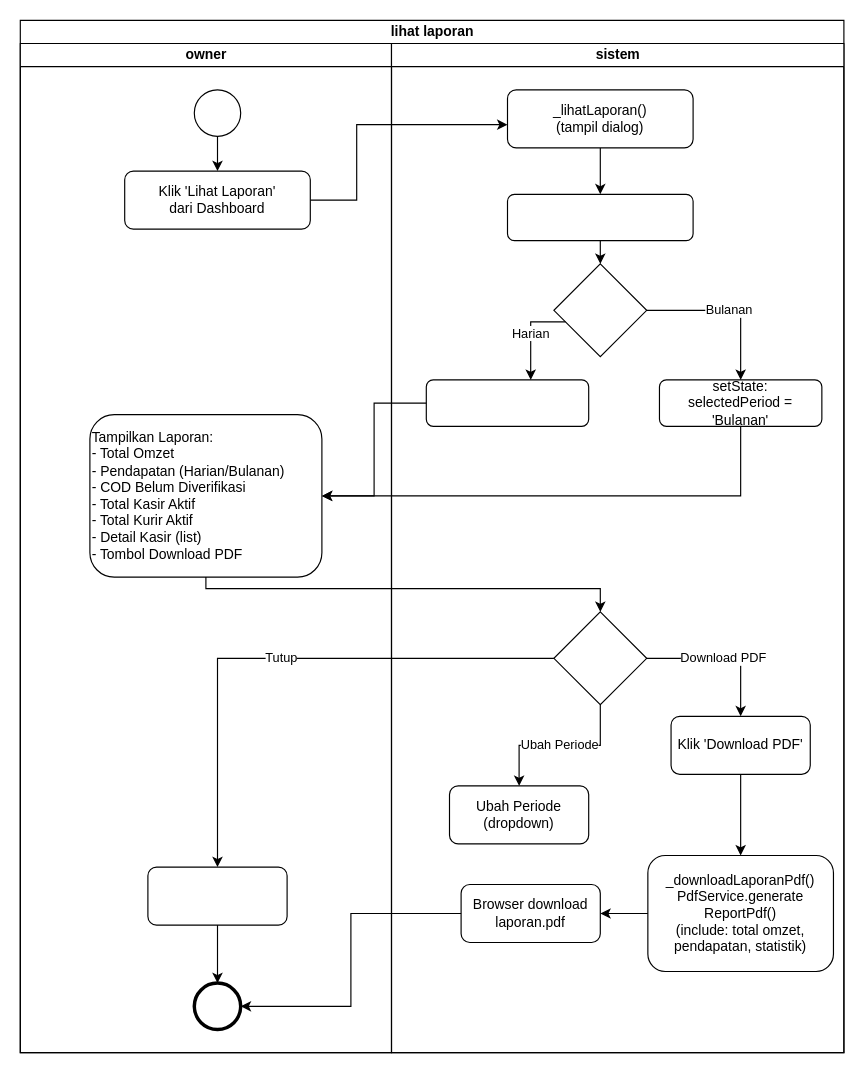
The diagram is 864 pixels wide and 1073 high, and some of its shapes have lost their labels. Each missing label, with the centre of its shape:
"Aksi?" goes at [600,658].
"Dropdown: Pilih Periode" goes at [599,217].
"Periode?" goes at [600,310].
"setState: selectedPeriod = 'Harian'" goes at [507,402].
"Tutup Dialog" goes at [217,895].
